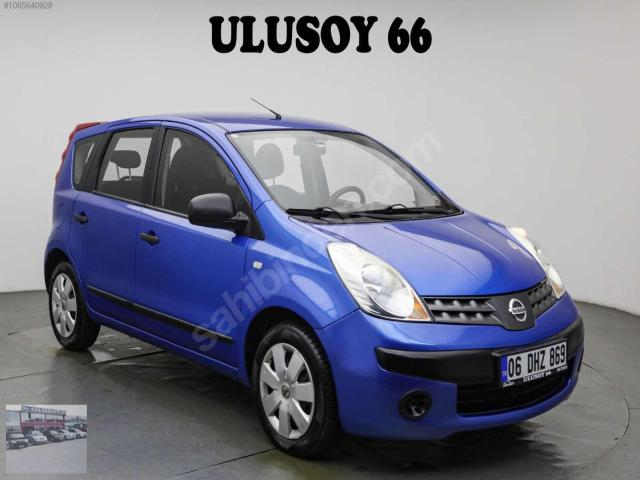plaka: (501, 341, 566, 387)
